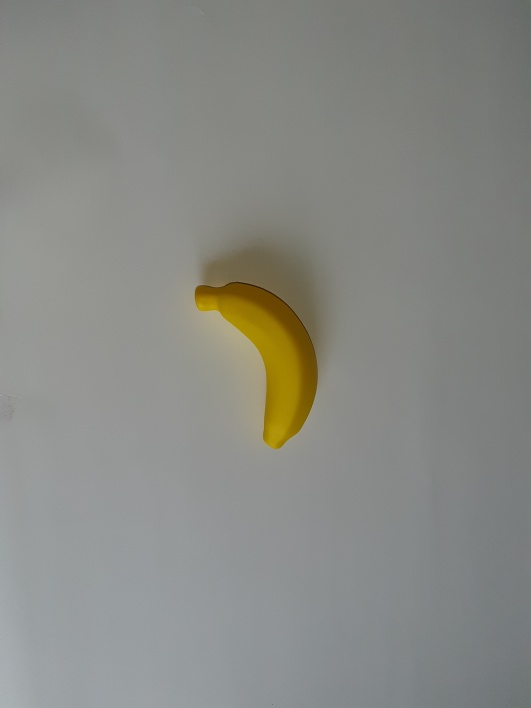banana: (201, 282, 315, 363)
